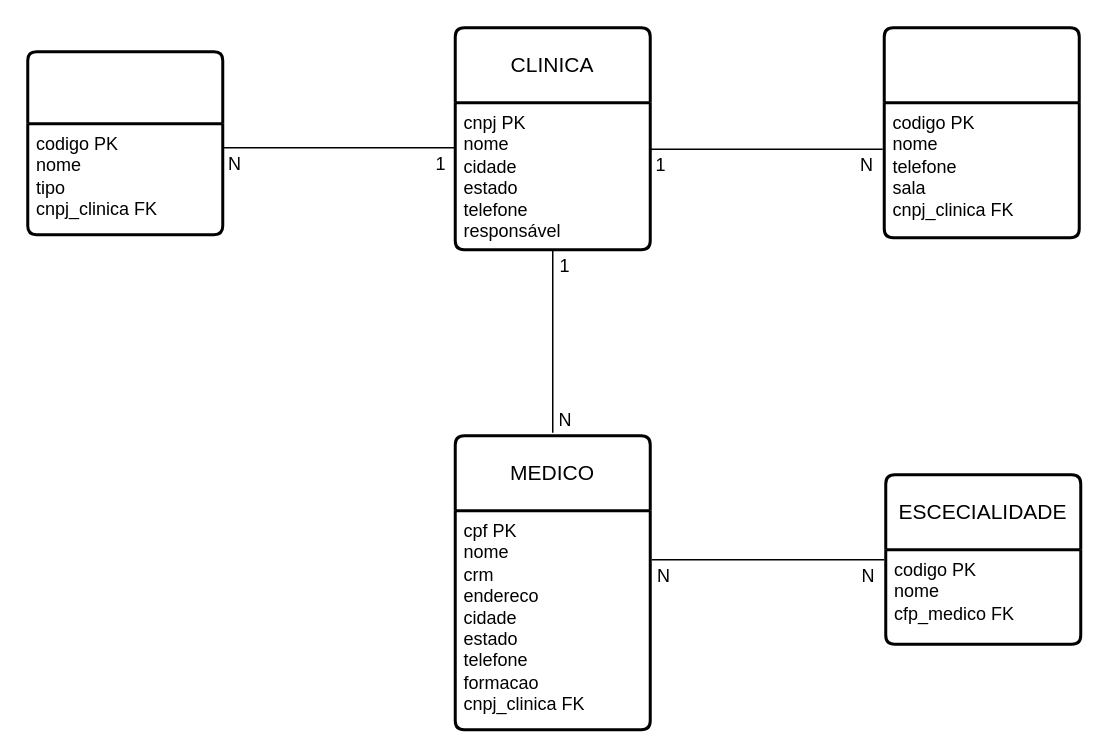
This 1107x756 diagram has some shape labels left out. The shapes that lost their labels are listed below. From the top down, each one's box as (x1, y1, x2, y2) in pixels, then its label:
(26, 50, 224, 236): CONVENIO
(882, 26, 1080, 238): SETOR
